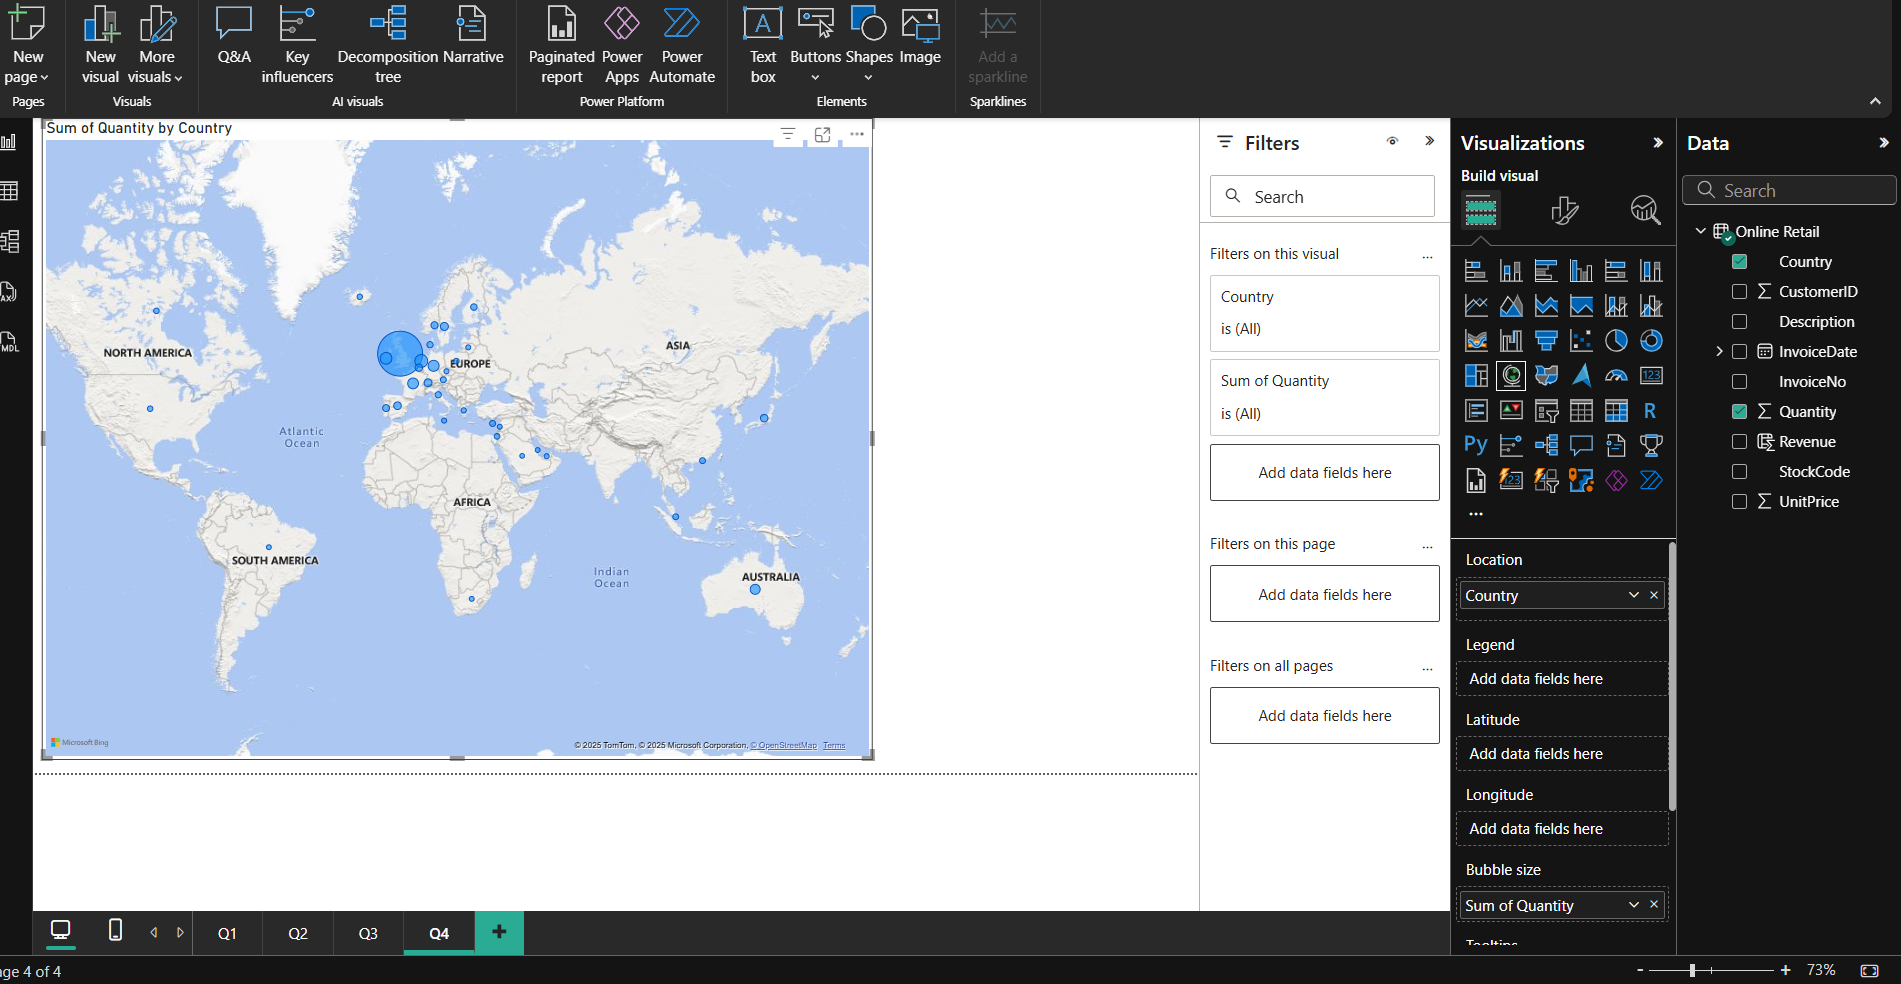

The dashboard page shown, as its layout file describes it:
{"tool":"powerbi","page":{"name":"Q4","canvas":[1280,720],"ordinal":3},"visuals":[{"type":"map","fields":{"Size":["Sum(Online Retail.Quantity)"],"Category":["Online Retail.Country"]},"box":[9.6,0,912.5,705.3],"z":0}]}

Visuals, with their boxes on the page's 1280x720 design canvas (x1, y1, x2, y2). These are canvas units, not pixel positions in the 1901x984 screenshot, which may show the page scaled, cropped or inside an application window:
map - Sum(Online Retail.Quantity) x Online Retail.Country: pyautogui.locateOnScreen(10, 0, 922, 705)
